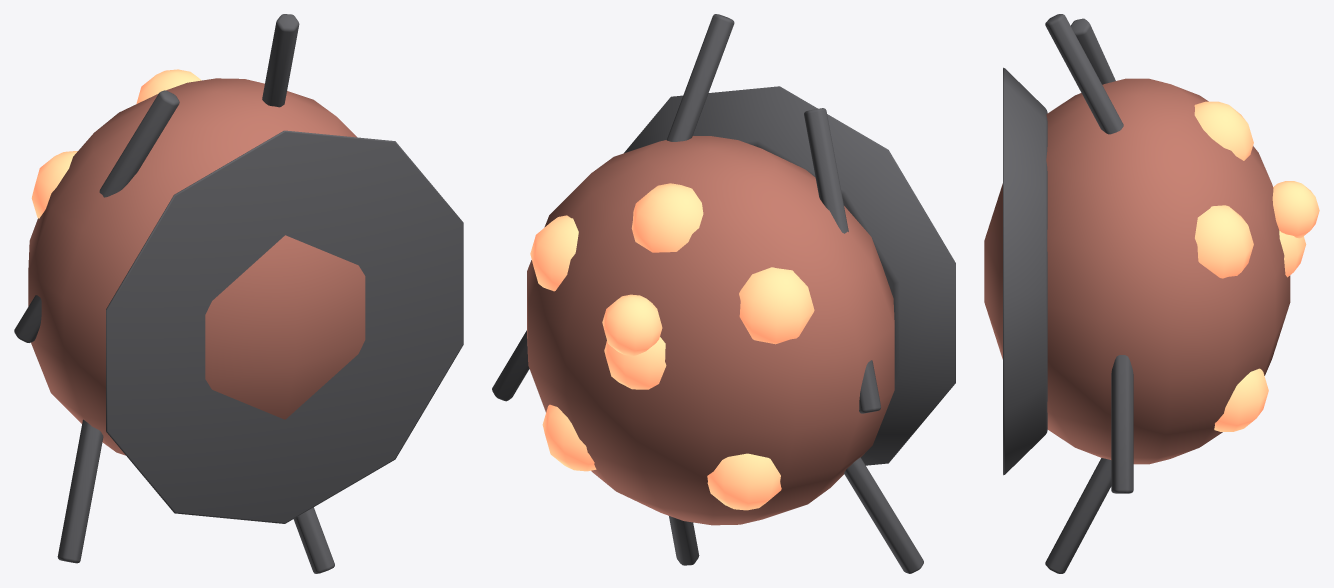
File: nest.glb
3 renders of one model, left to right at view 1: azimuth 30°, elevation 25°; view 2: azimuth 150°, elevation 25°; view 3: azimuth 270°, elevation 25°, orthographic. The views are drawn at different scales.
Visible parts, largest first — view 1: Sockel, Koerper.002, Rippe2, Rippe3, Rippe1, Rippe4, Brutkammer2, Brutkammer5; view 2: Koerper.002, Sockel, Brutkammer2, Brutkammer5, Rippe2, Brutkammer4, Rippe1, Rippe3, Auge.006, Brutkammer1, Brutkammer0, Brutkammer3 (+2 smaller); view 3: Koerper.002, Sockel, Brutkammer1, Rippe0, Rippe1, Rippe4, Brutkammer5, Auge.006, Brutkammer3, Rippe2, Brutkammer0.
Boxes of the visible parts, x1=… form: Sockel: x1=106, y1=130, x2=463, y2=523; Koerper.002: x1=28, y1=78, x2=365, y2=455; Rippe2: x1=14, y1=90, x2=179, y2=342; Rippe3: x1=57, y1=419, x2=103, y2=563; Rippe1: x1=262, y1=14, x2=299, y2=107; Rippe4: x1=293, y1=507, x2=334, y2=573; Brutkammer2: x1=31, y1=151, x2=77, y2=218; Brutkammer5: x1=136, y1=69, x2=201, y2=103; Koerper.002: x1=527, y1=136, x2=894, y2=525; Sockel: x1=624, y1=86, x2=955, y2=465; Brutkammer2: x1=739, y1=267, x2=814, y2=344; Brutkammer5: x1=631, y1=183, x2=703, y2=252; Rippe2: x1=804, y1=108, x2=880, y2=413; Brutkammer4: x1=707, y1=453, x2=781, y2=510; Rippe1: x1=667, y1=14, x2=734, y2=141; Rippe3: x1=844, y1=457, x2=923, y2=573; Auge.006: x1=602, y1=294, x2=662, y2=355; Brutkammer1: x1=530, y1=215, x2=578, y2=291; Brutkammer0: x1=604, y1=337, x2=666, y2=389; Brutkammer3: x1=542, y1=404, x2=596, y2=471; Koerper.002: x1=984, y1=78, x2=1290, y2=464; Sockel: x1=1003, y1=67, x2=1047, y2=475; Brutkammer1: x1=1195, y1=205, x2=1253, y2=278; Rippe0: x1=1111, y1=355, x2=1133, y2=493; Rippe1: x1=1045, y1=14, x2=1123, y2=134; Rippe4: x1=1045, y1=458, x2=1111, y2=573; Brutkammer5: x1=1194, y1=101, x2=1253, y2=160; Auge.006: x1=1272, y1=181, x2=1319, y2=238; Brutkammer3: x1=1214, y1=368, x2=1268, y2=431; Rippe2: x1=1071, y1=18, x2=1115, y2=84; Brutkammer0: x1=1279, y1=230, x2=1306, y2=277.
Bounding box in the file's own units: 3.05 × 4 × 2.24.
